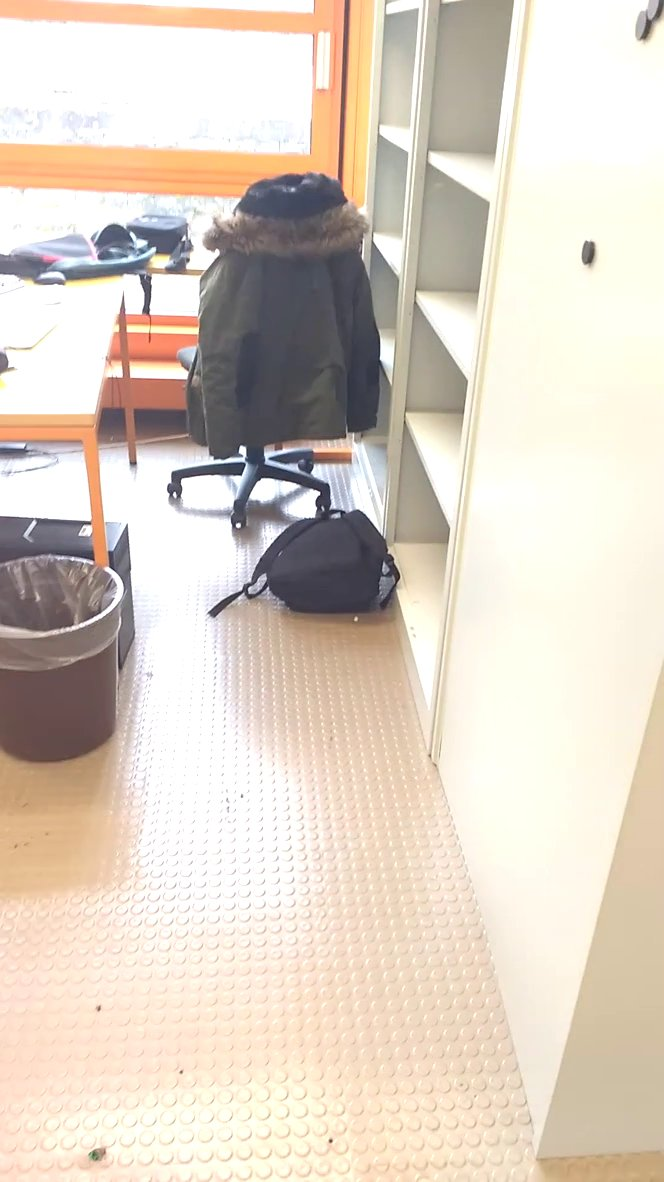bag: (199, 497, 412, 629)
bin: (1, 534, 131, 768)
